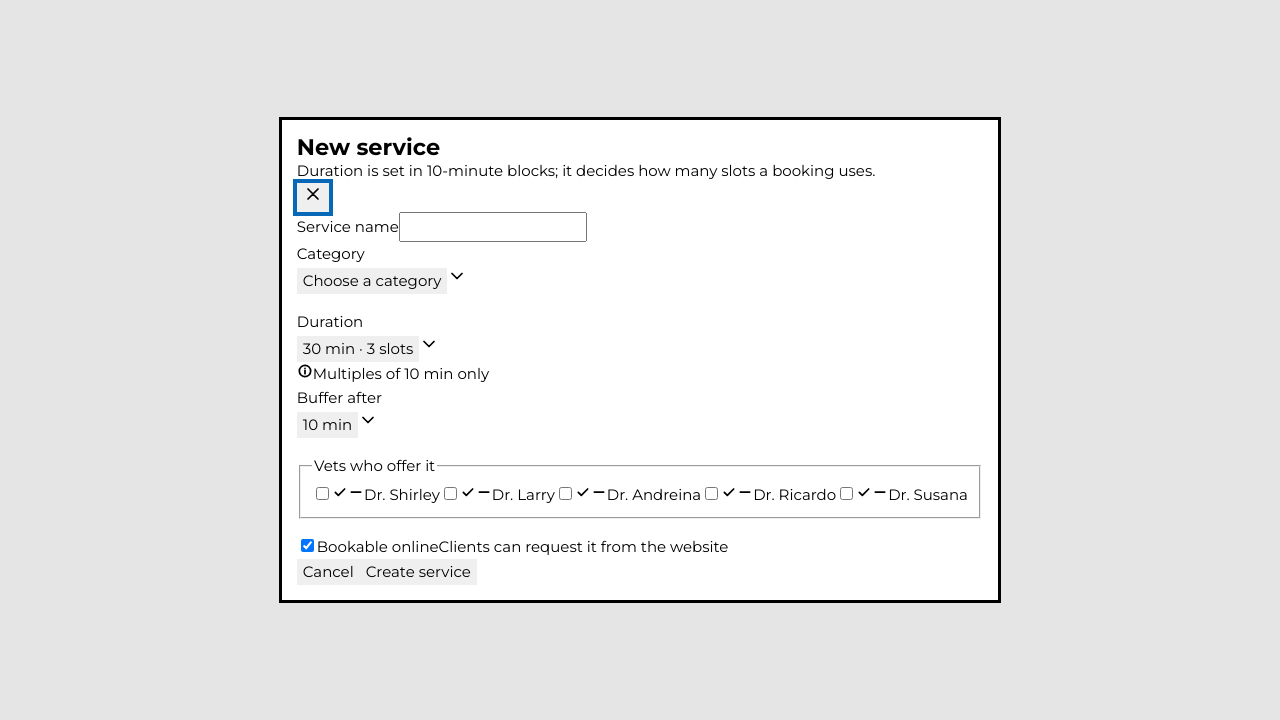
ServiceModal › creates a valid service and closes
Step 1. Type "Dental check" into the field labelled "Service name" → (493, 227), box [399,212,587,242]
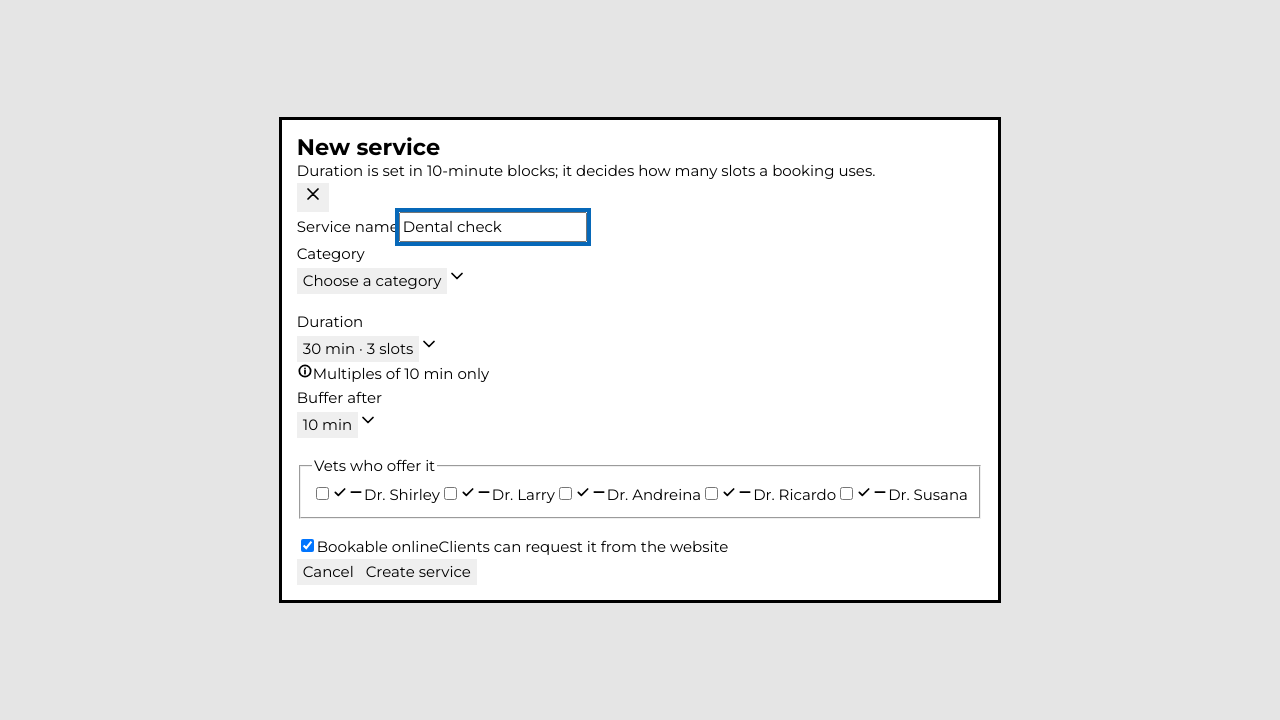
Step 2. Click the dropdown labelled "category" → (372, 281), box [297,268,447,294]
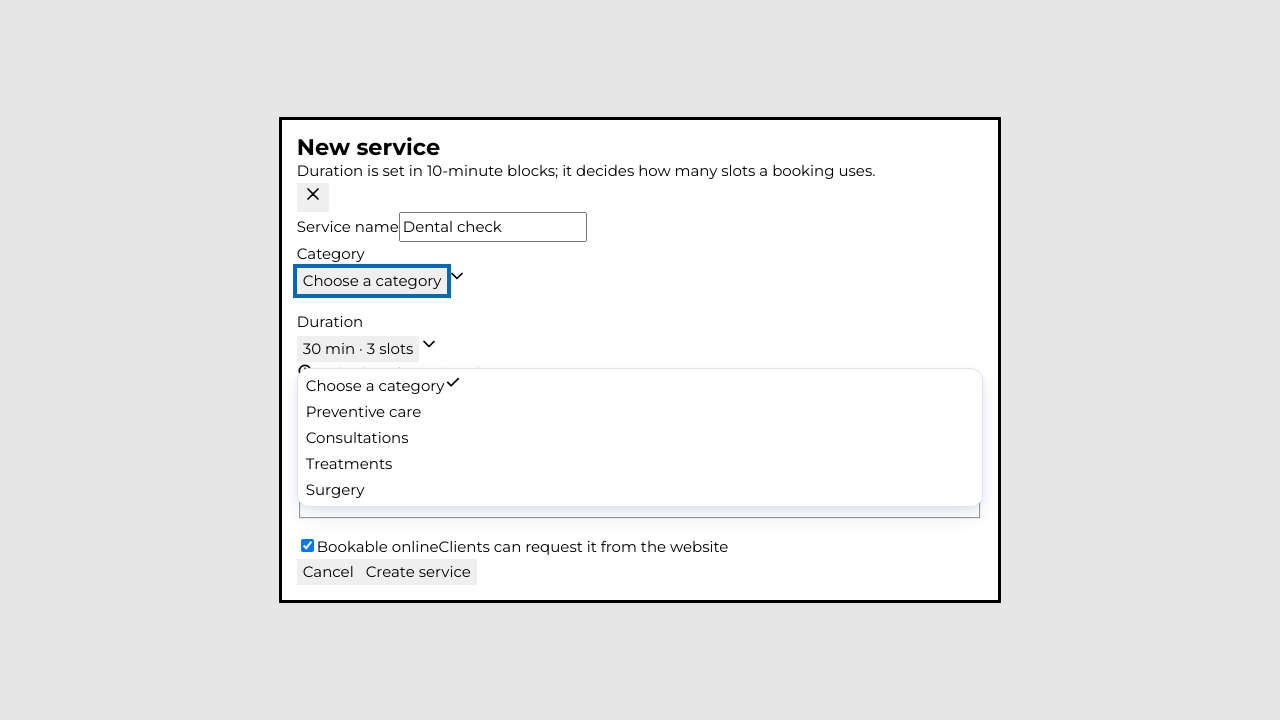
Step 3. Click the option "Preventive care" → (364, 411), box [306,402,421,421]
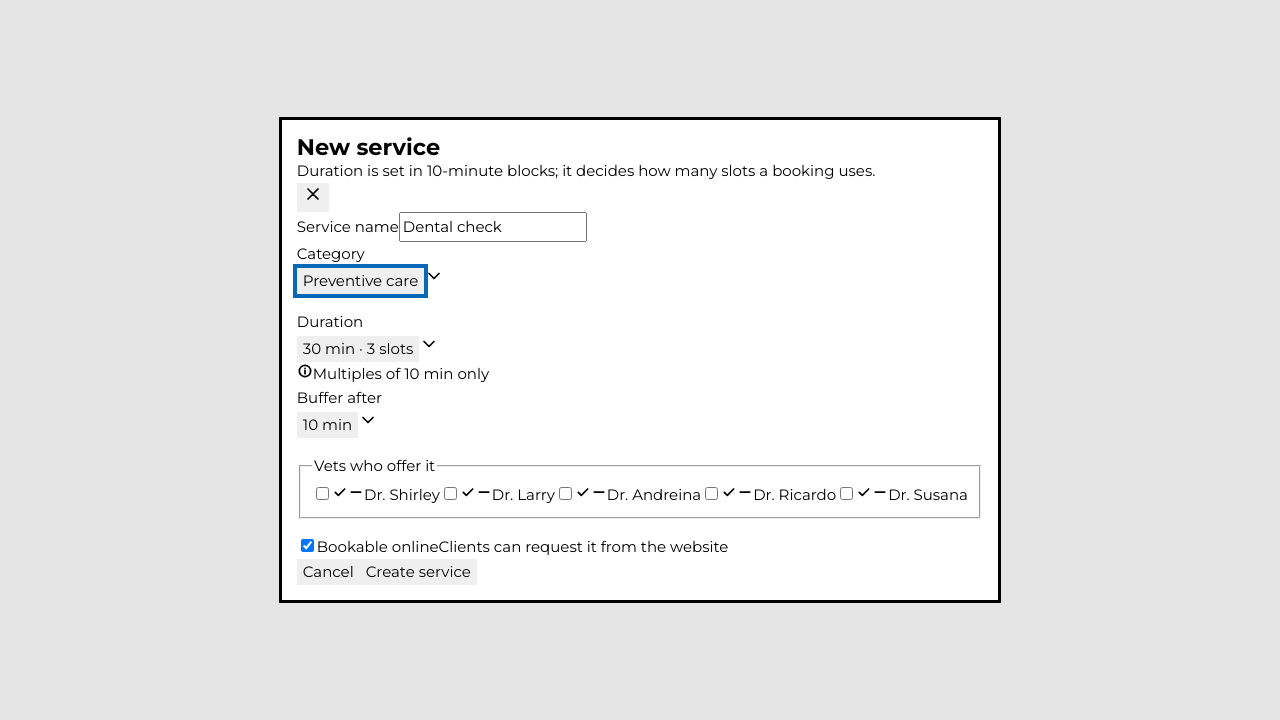
Step 4. Click the checkbox labelled "Dr. Shirley" → (322, 494), box [316,487,329,500]
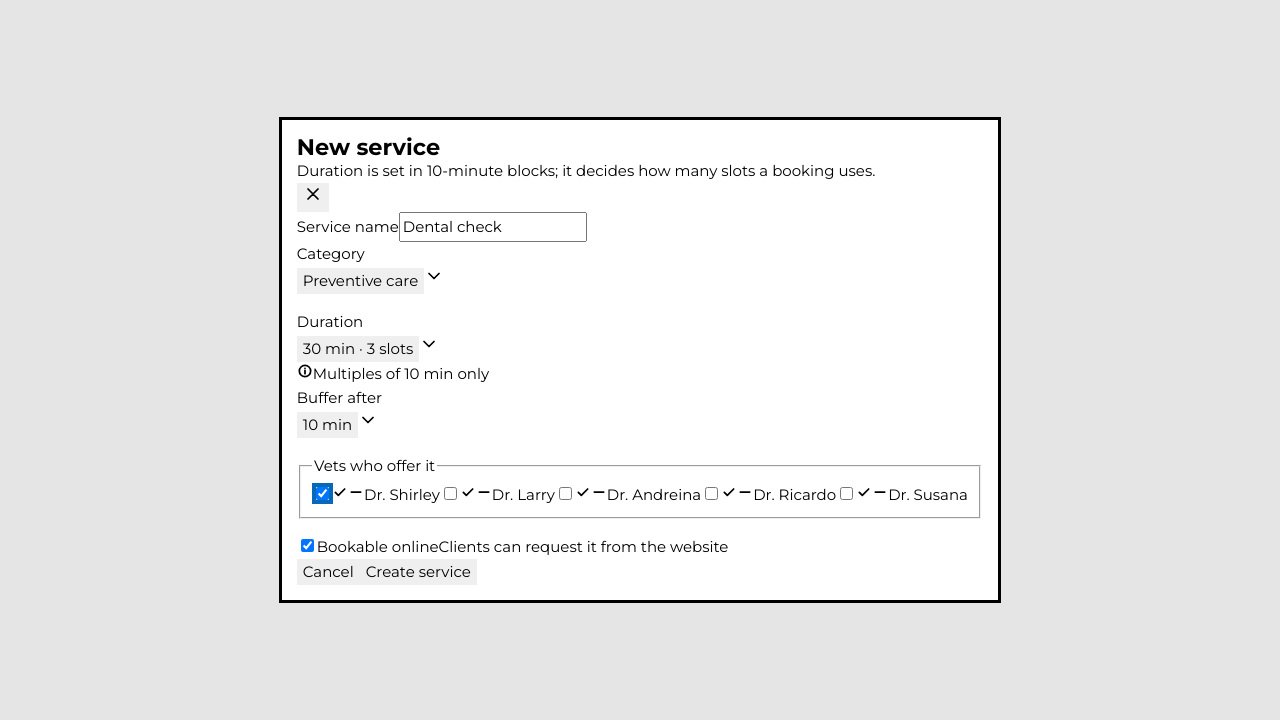
Step 5. Click the button "Create service" → (418, 572), box [360,559,477,585]
Wait 900 ms
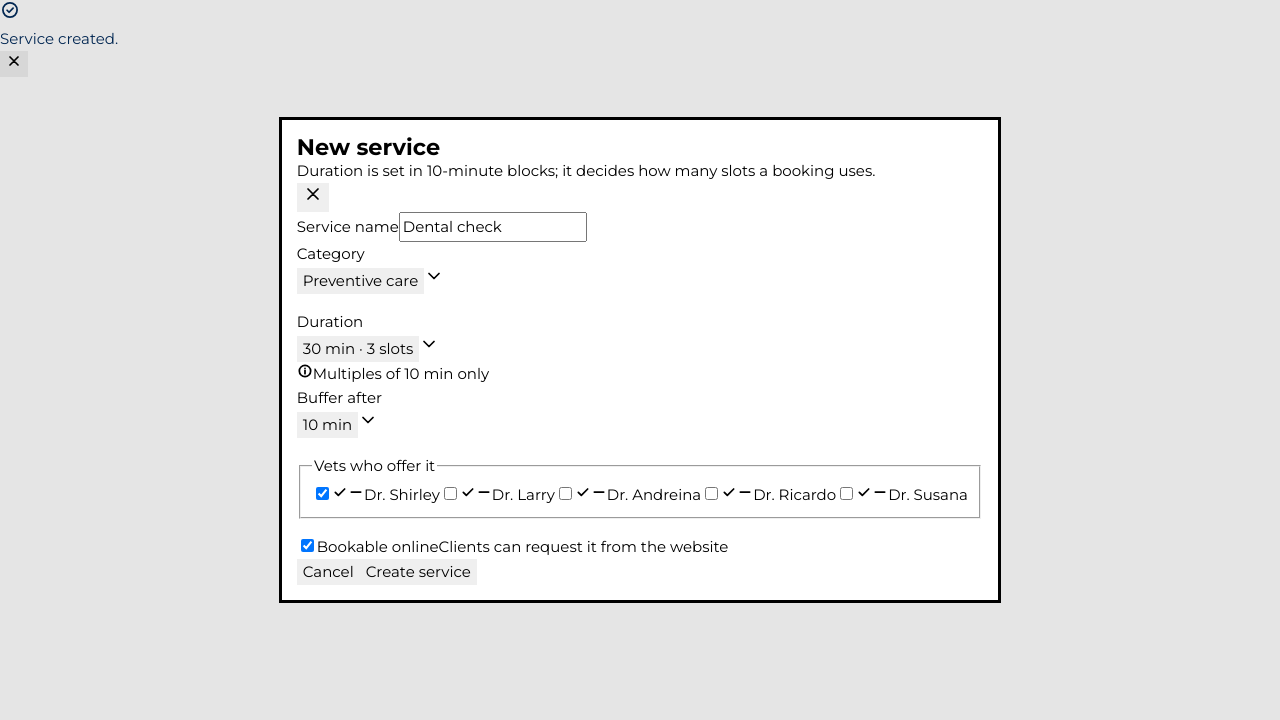
Check: the text "Service created." is shown, box [0,29,118,48]
